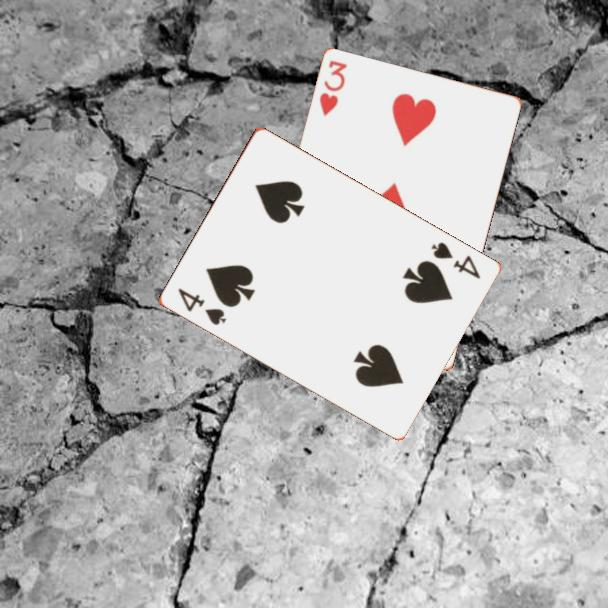h03: (316, 57, 350, 120)
s04: (427, 239, 483, 282), (174, 285, 229, 328)
